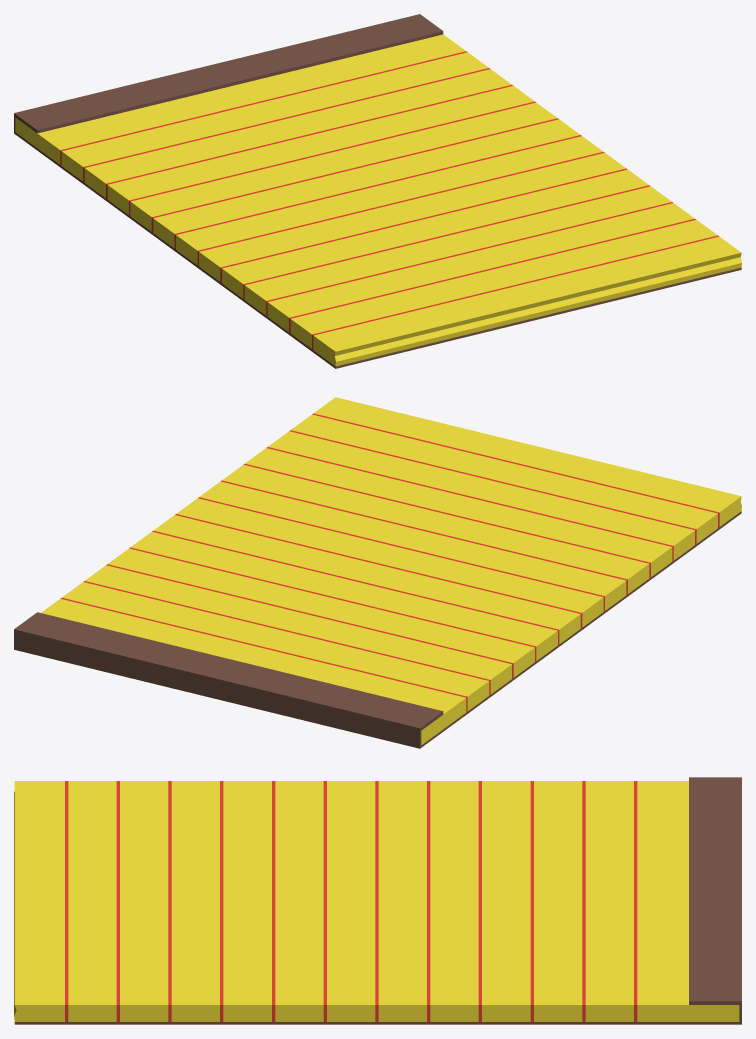
File: Notebook_01.obj
The picture shows the model from 3 angles, top to bottom: view 1: azimuth 30°, elevation 25°; view 2: azimuth 150°, elevation 25°; view 3: azimuth 270°, elevation 25°; orthographic projection. The views are drawn at different scales.
Parts seen in each view (by area): view 1: Notebook_Cube.041; view 2: Notebook_Cube.041; view 3: Notebook_Cube.041.
Part boxes in pixels (left/top/right/bottom): Notebook_Cube.041: left=14, top=14, right=741, bottom=368; Notebook_Cube.041: left=14, top=397, right=741, bottom=748; Notebook_Cube.041: left=14, top=777, right=741, bottom=1024.
Size of the model in its own units: 7.18 by 0.3453 by 9.86.
